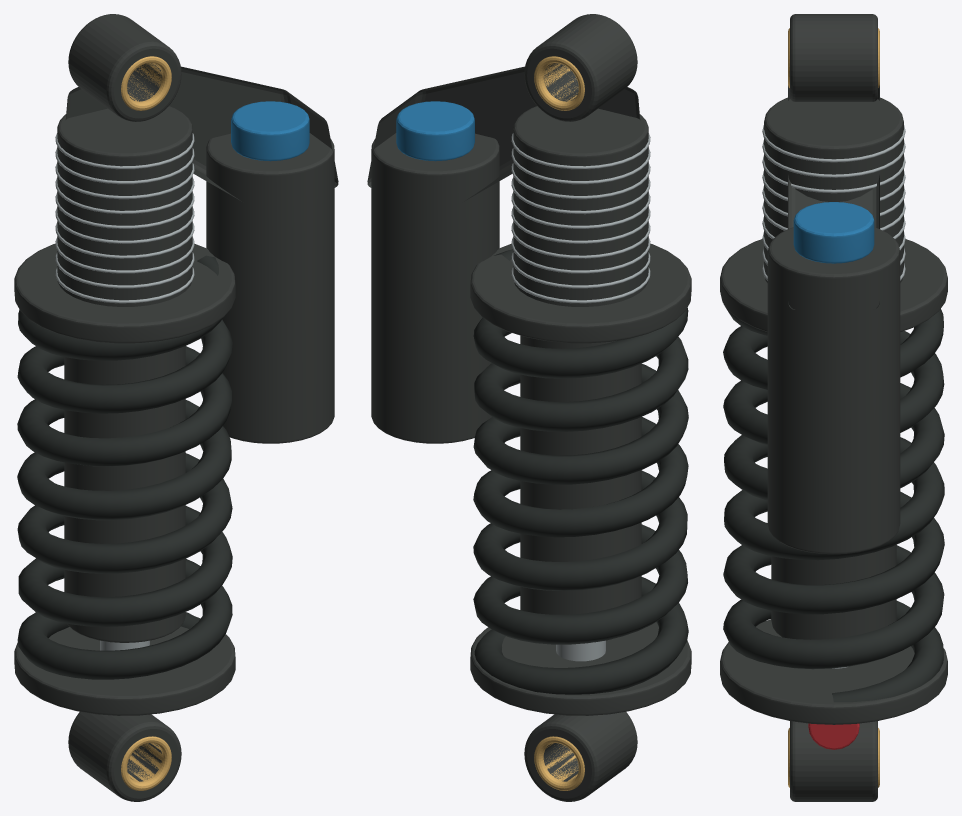
The model's file is marzocchi-bomber-cr--17efb6ea.glb.
The picture shows the model from 3 angles, left to right: view 1: azimuth 30°, elevation 25°; view 2: azimuth 150°, elevation 25°; view 3: azimuth 270°, elevation 25°; orthographic projection. The views are drawn at different scales.
Visible parts, largest first — view 1: marzocchi-bomber-cr--17efb6ea__link, marzocchi-bomber-cr--17efb6ea__coil, marzocchi-bomber-cr--17efb6ea__bolts, marzocchi-bomber-cr--17efb6ea__adjuster, marzocchi-bomber-cr--17efb6ea__stanchions; view 2: marzocchi-bomber-cr--17efb6ea__link, marzocchi-bomber-cr--17efb6ea__coil, marzocchi-bomber-cr--17efb6ea__bolts, marzocchi-bomber-cr--17efb6ea__adjuster, marzocchi-bomber-cr--17efb6ea__stanchions; view 3: marzocchi-bomber-cr--17efb6ea__link, marzocchi-bomber-cr--17efb6ea__coil, marzocchi-bomber-cr--17efb6ea__adjuster, marzocchi-bomber-cr--17efb6ea__bolts, marzocchi-bomber-cr--17efb6ea__rebound, marzocchi-bomber-cr--17efb6ea__stanchions.
Boxes of the visible parts, x1,y1,x2,y2 form: marzocchi-bomber-cr--17efb6ea__link: (14,14,338,801); marzocchi-bomber-cr--17efb6ea__coil: (17,255,232,679); marzocchi-bomber-cr--17efb6ea__bolts: (55,133,194,650); marzocchi-bomber-cr--17efb6ea__adjuster: (231,101,309,161); marzocchi-bomber-cr--17efb6ea__stanchions: (121,56,171,790); marzocchi-bomber-cr--17efb6ea__link: (367,14,691,801); marzocchi-bomber-cr--17efb6ea__coil: (473,249,688,694); marzocchi-bomber-cr--17efb6ea__bolts: (511,133,650,661); marzocchi-bomber-cr--17efb6ea__adjuster: (396,101,474,161); marzocchi-bomber-cr--17efb6ea__stanchions: (534,56,584,790); marzocchi-bomber-cr--17efb6ea__link: (720,14,947,801); marzocchi-bomber-cr--17efb6ea__coil: (723,304,944,702); marzocchi-bomber-cr--17efb6ea__adjuster: (793,202,874,263); marzocchi-bomber-cr--17efb6ea__bolts: (762,125,905,668); marzocchi-bomber-cr--17efb6ea__rebound: (808,723,859,749); marzocchi-bomber-cr--17efb6ea__stanchions: (788,28,879,787).
Bounding box in the file's own units: 0.096 × 0.234 × 0.062.
